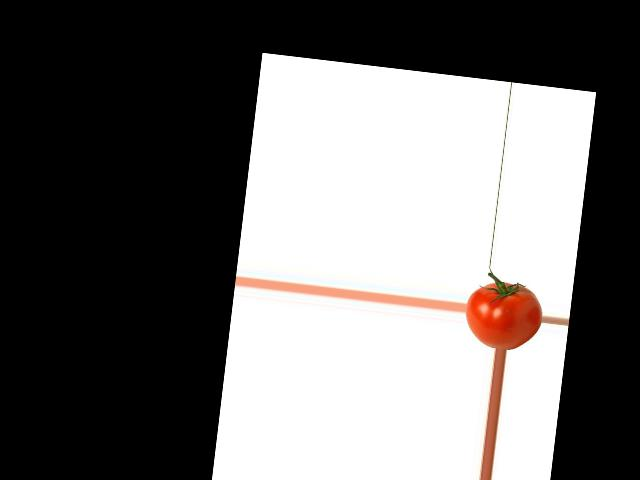tomato: (462, 277, 546, 352)
